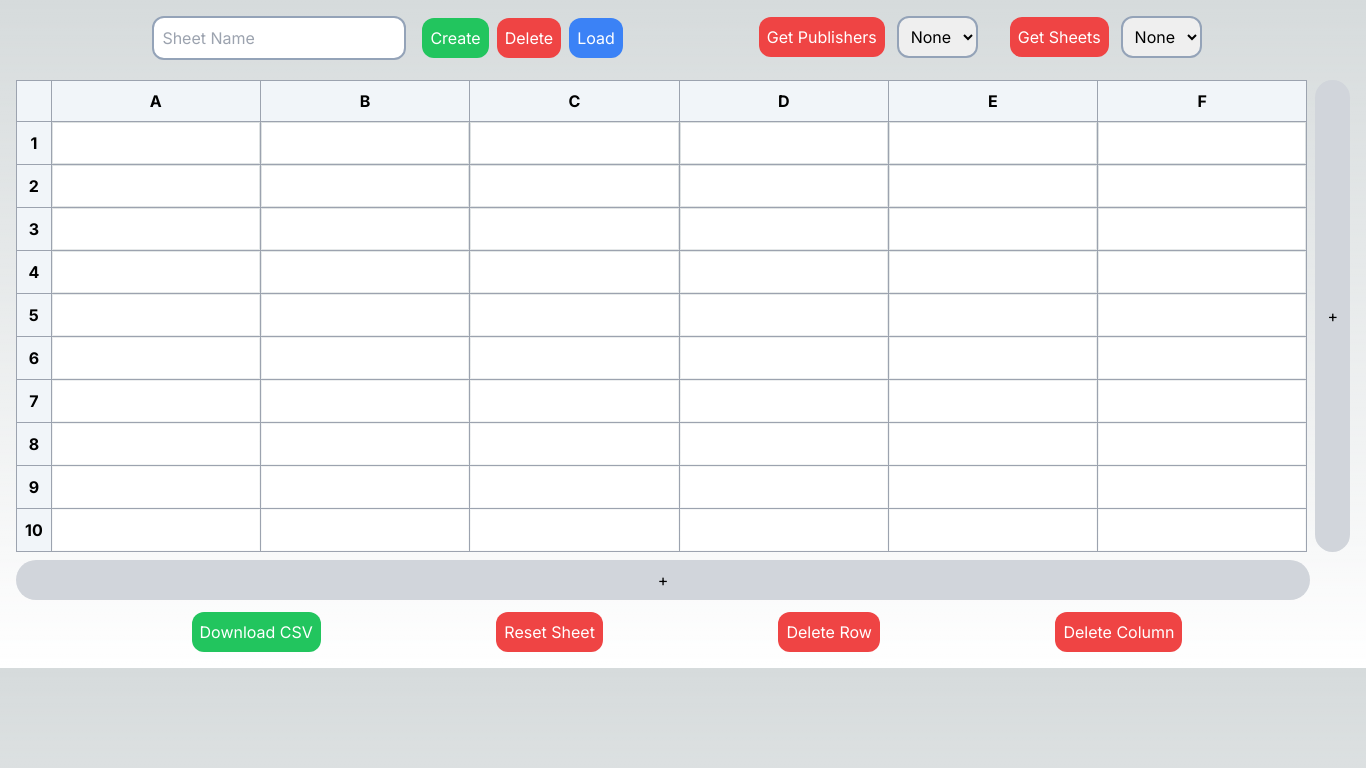
Spreadsheet › deletes a column when Delete Column button is clicked
Click the button "Delete Column": click(1119, 632) [1055,612,1182,652]
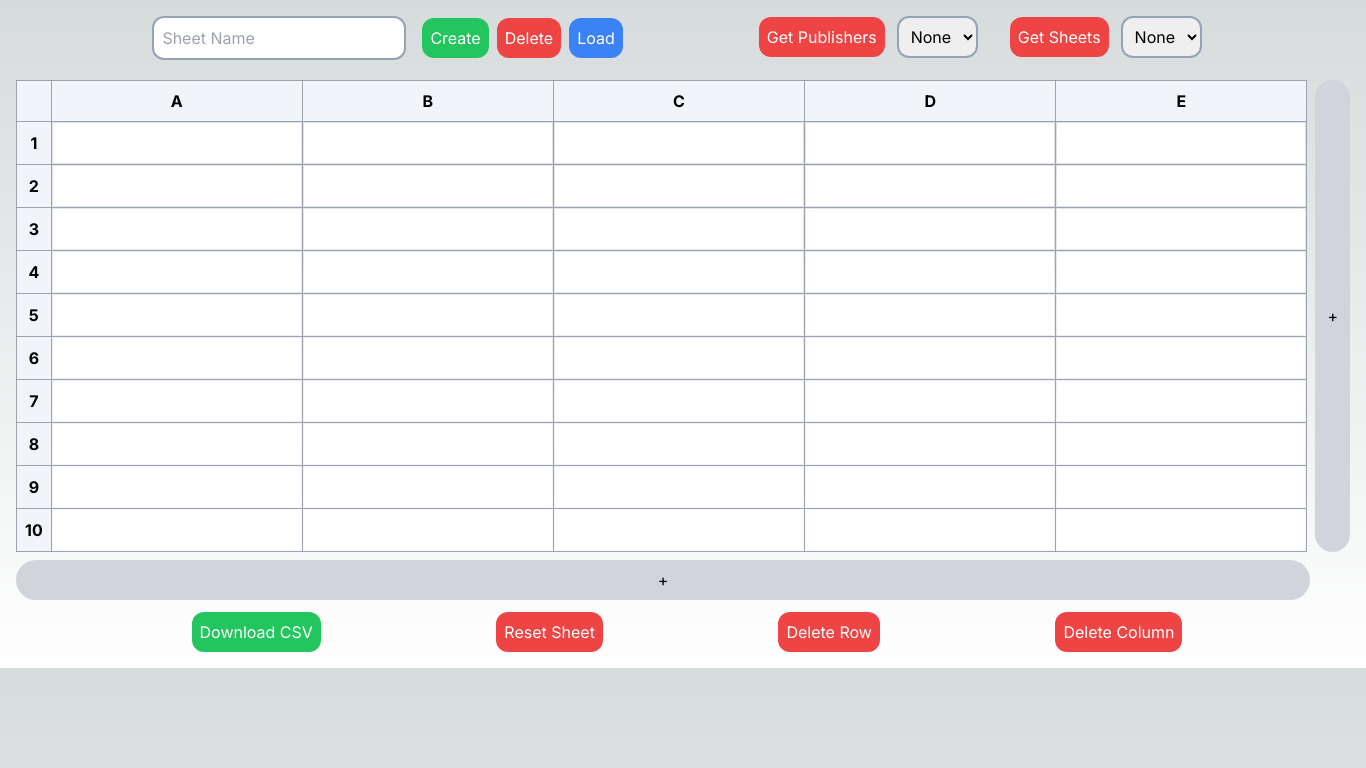
Check: the number of column headings is 6, box [16,80,51,122]; [51,80,302,122]; [302,80,553,122]; [554,80,805,122]; [805,80,1056,122]; [1056,80,1307,122]
